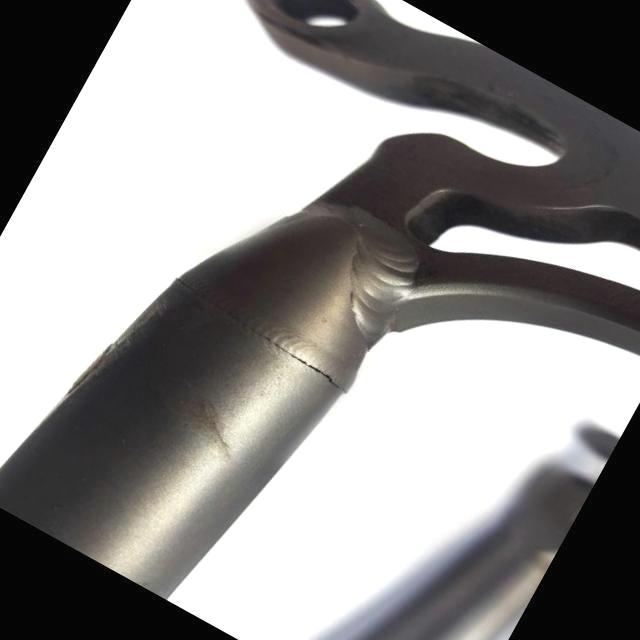defect: (174, 276, 351, 396)
